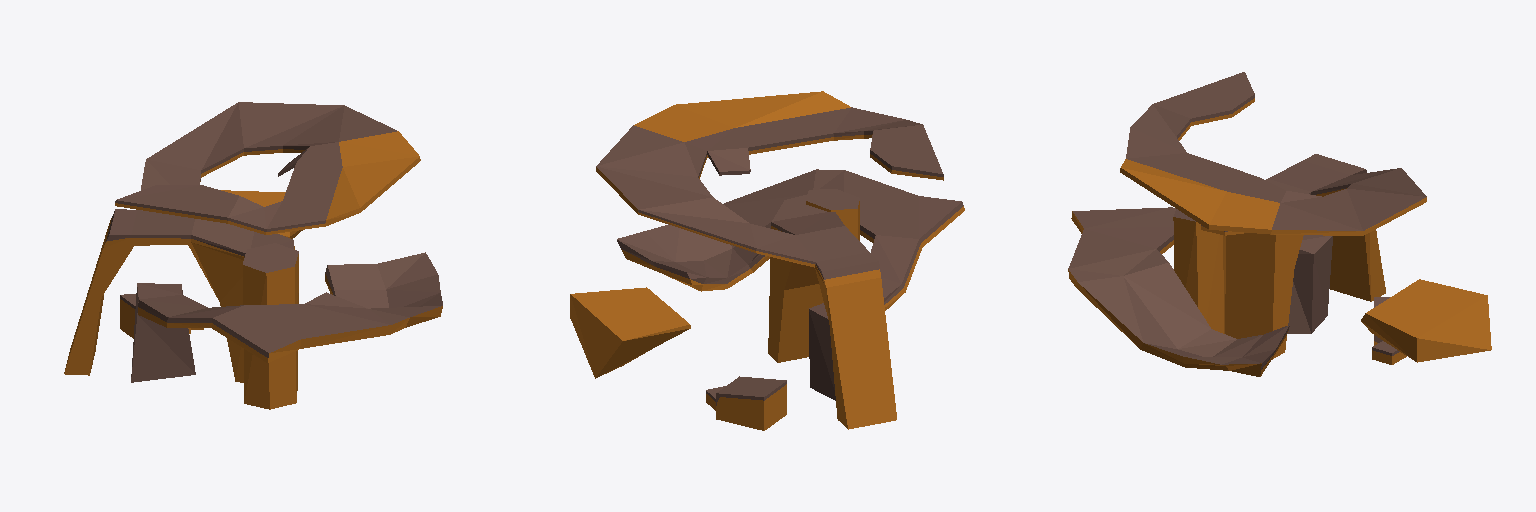
Rendered from TutorialBlueprint1.obj.
3 renders of one model, left to right at view 1: azimuth 30°, elevation 25°; view 2: azimuth 150°, elevation 25°; view 3: azimuth 270°, elevation 25°, orthographic.
Parts seen in each view (by area): view 1: TutorialBlueprint1; view 2: TutorialBlueprint1; view 3: TutorialBlueprint1.
Boxes of the visible parts, box(x1,y1,x2,y2) form: TutorialBlueprint1: box(64, 102, 442, 409); TutorialBlueprint1: box(570, 91, 964, 430); TutorialBlueprint1: box(1068, 72, 1491, 376).
Size of the model in its own units: 67.36 by 43.16 by 76.86.